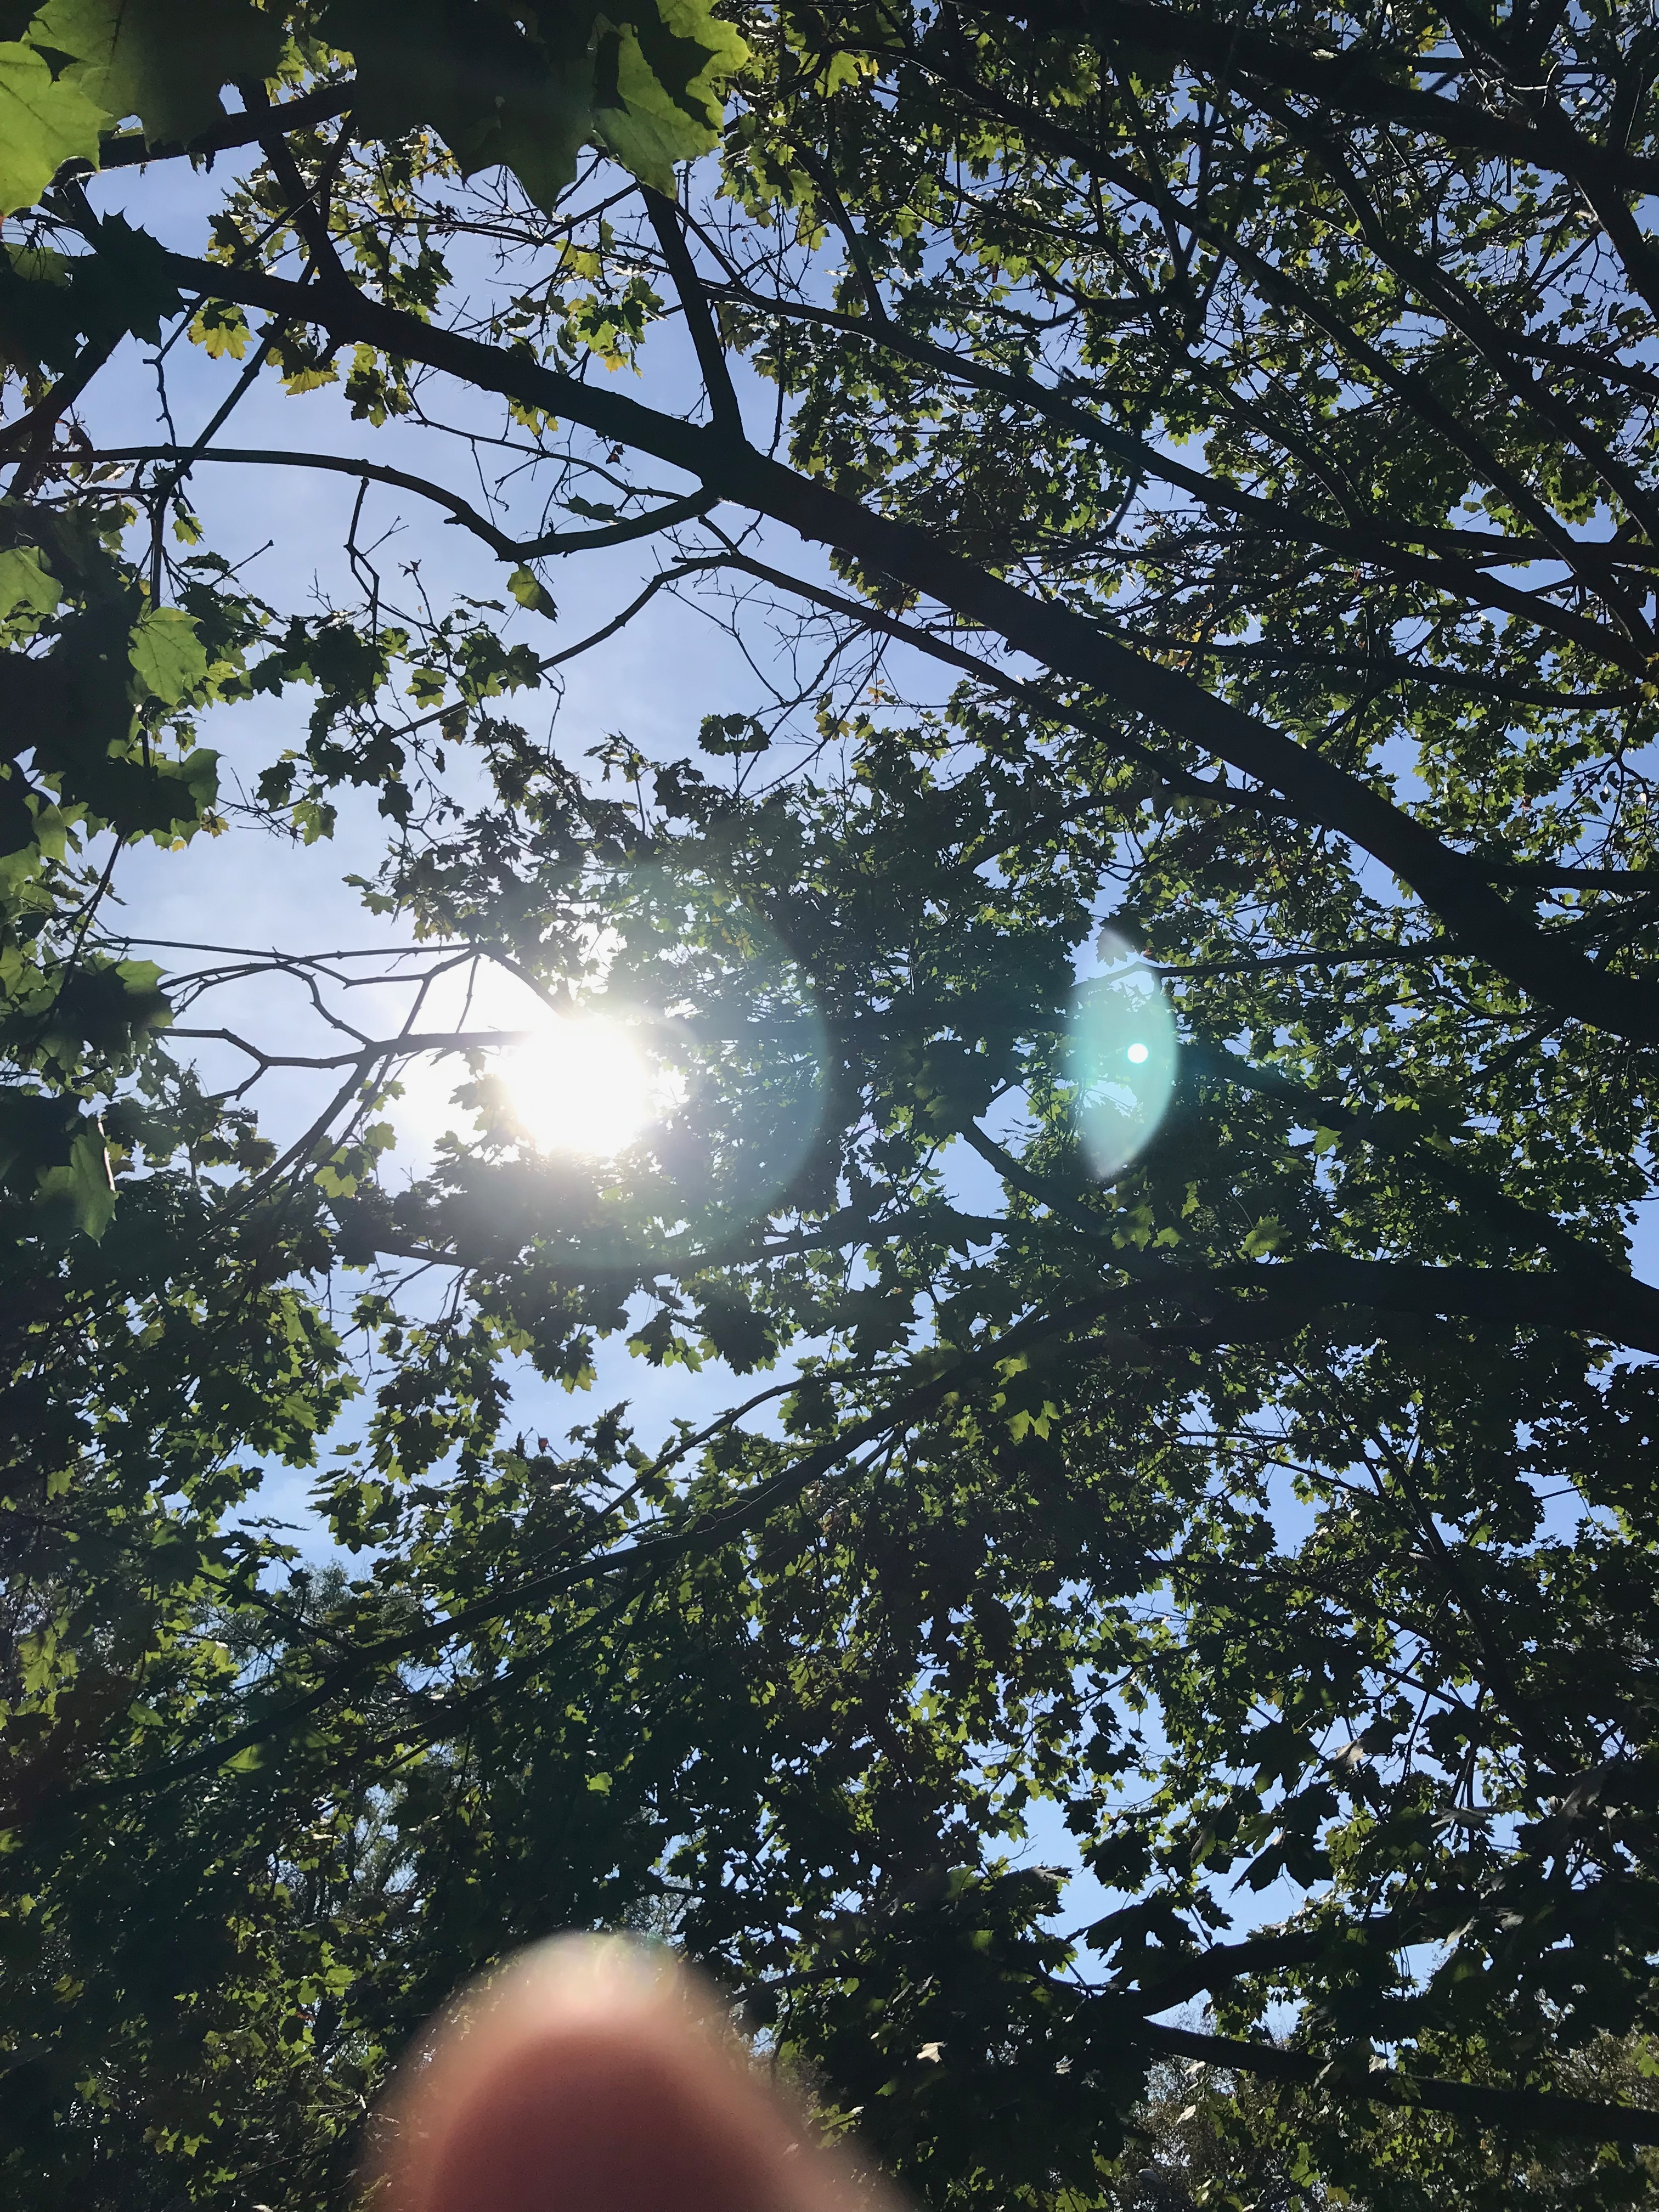flare: (1126, 1042, 1150, 1066)
